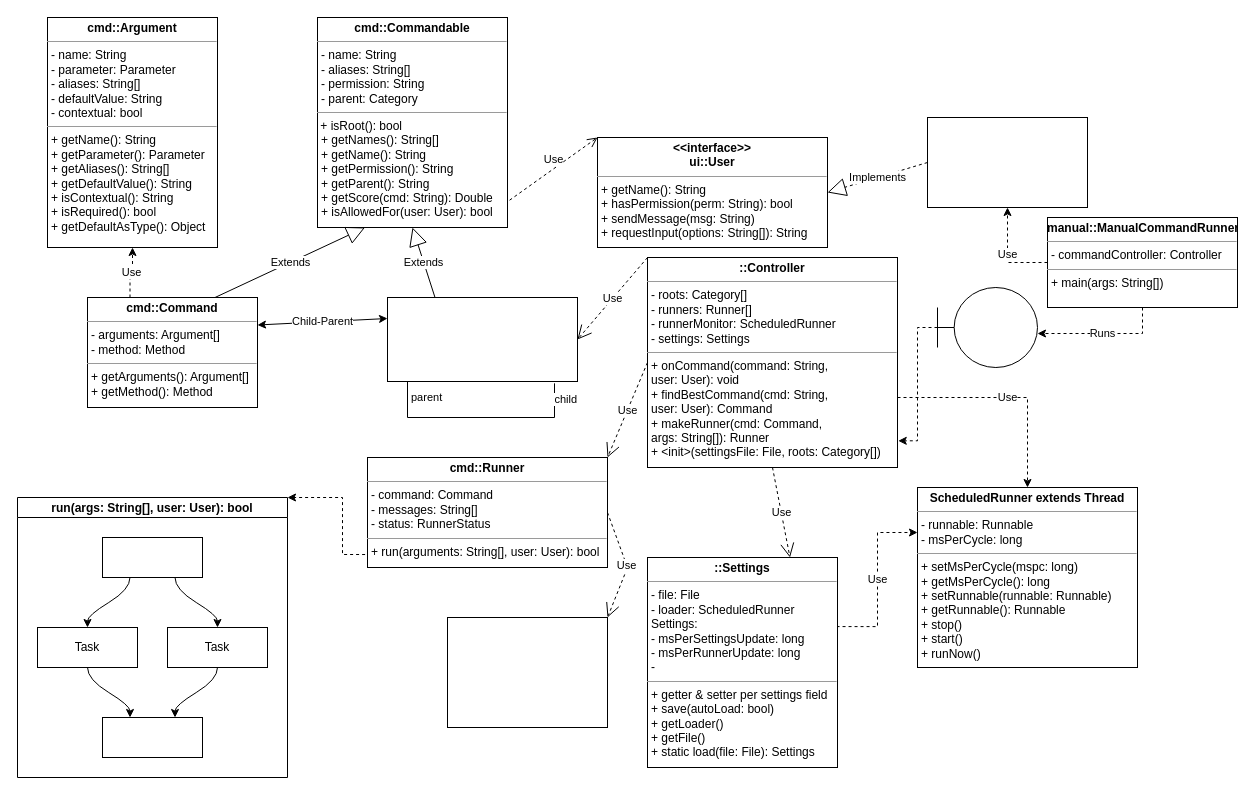
The diagram is 1256 pixels wide and 795 high, and some of its shapes have lost their labels. Here are the shapes that lost their labels. From the top down, the centre of each, then its label:
At point 1007,162: "manual::ManualUser + field: Type + method(): Type".
At point 482,339: "cmd::Category - commands: Command[] + getCommands(): Command[]".
At point 987,327: "Incoming External Command".
At point 152,557: "Start".
At point 527,672: "cmd::RunnerStatus enum + RUNNING + AWAIT-USER + IDLE + DONE + READY".
At point 152,737: "End".
